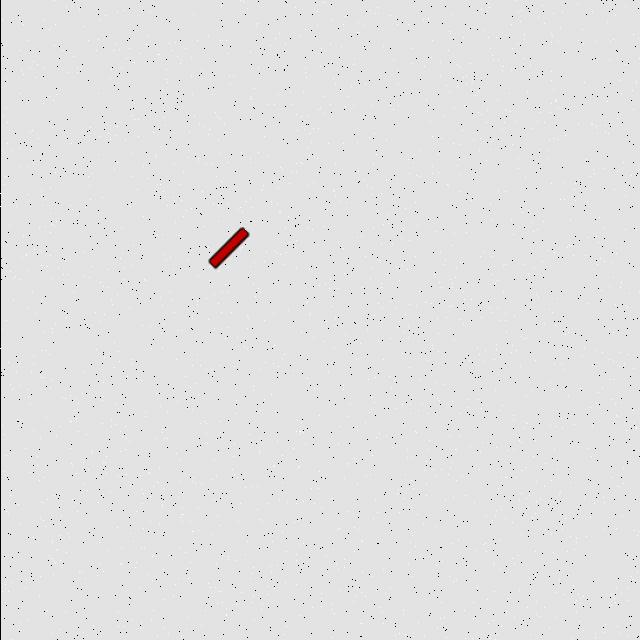3069b: (203, 224, 252, 273)
